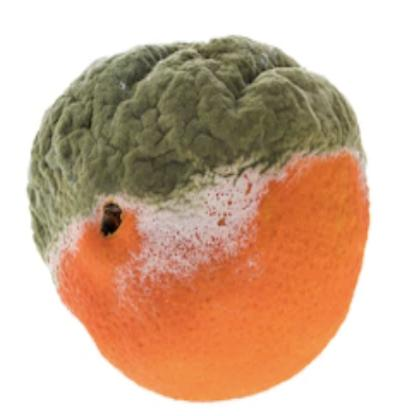rotten: (29, 38, 368, 404)
